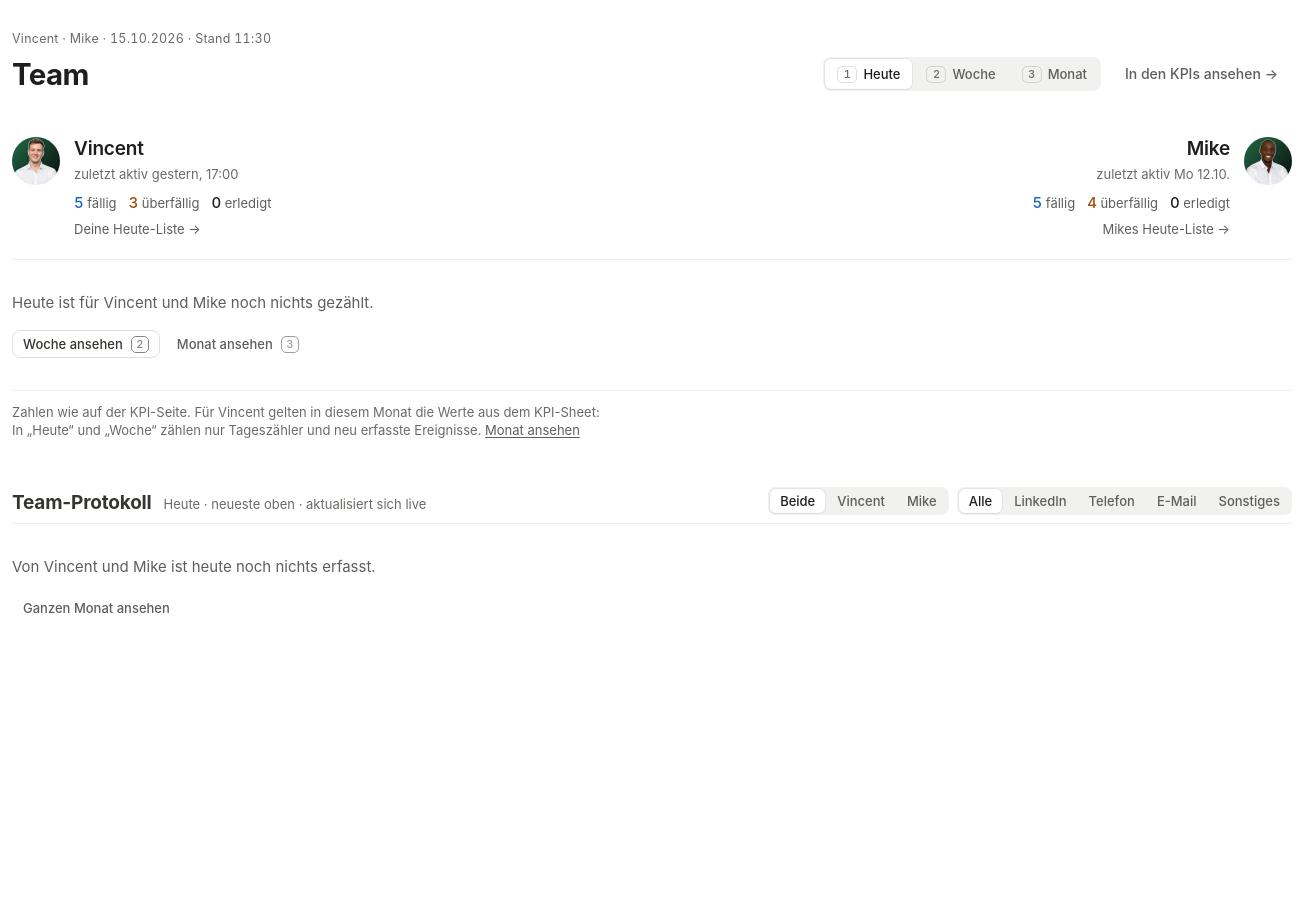
Test: TeamSeite › Heute ohne jede Zahl: ein Satz statt acht Nullzeilen, Weg zur Woche
Expected: the text "Heute ist für Vincent und Mike noch nichts gezählt." is shown, [12,260,1292,391]
Click the button "Woche ansehen 2".
click(86, 344)  # box [12,330,160,358]
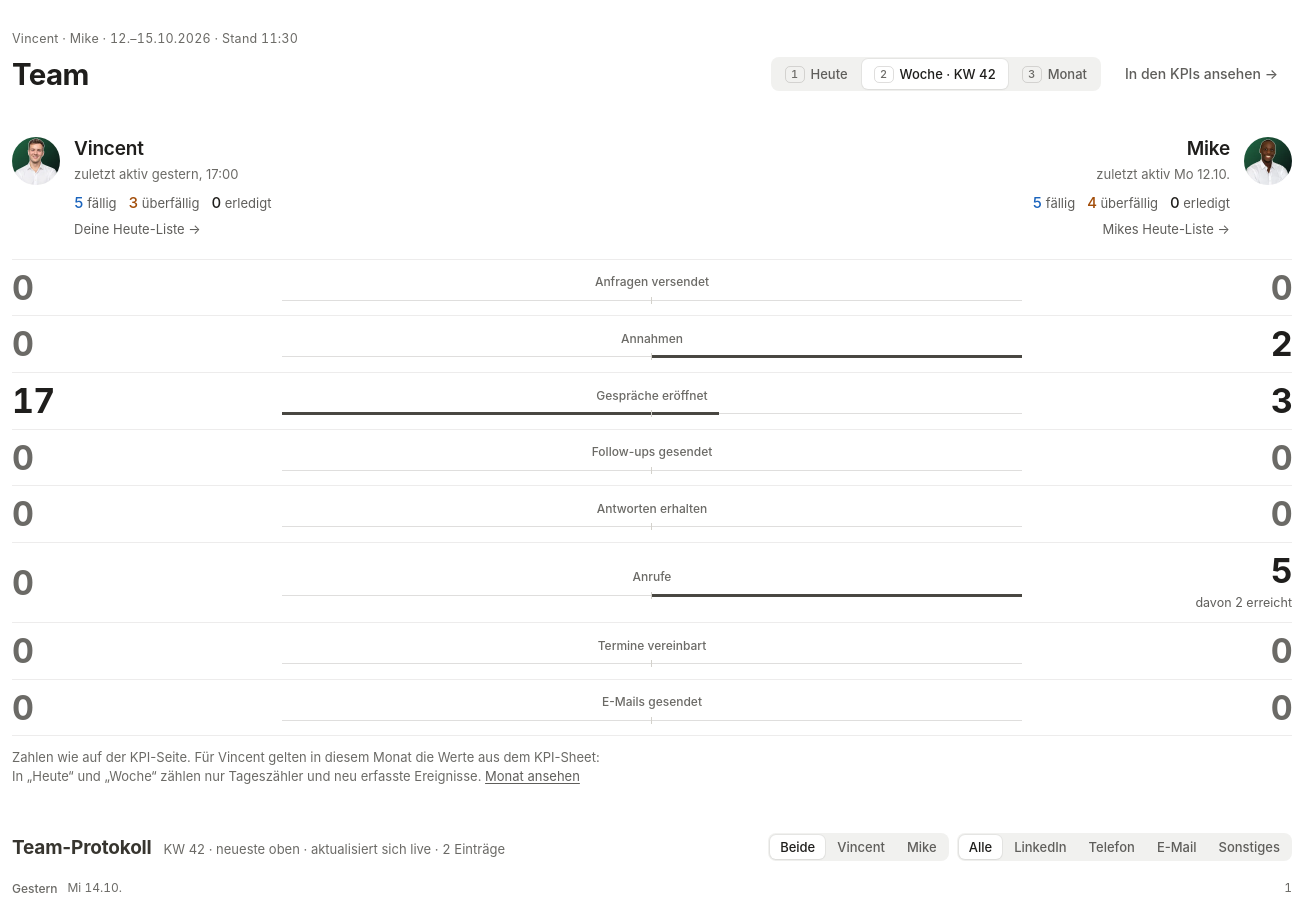
Now the list named "Kennzahlen KW 42" is shown, box [12,260,1292,736]
